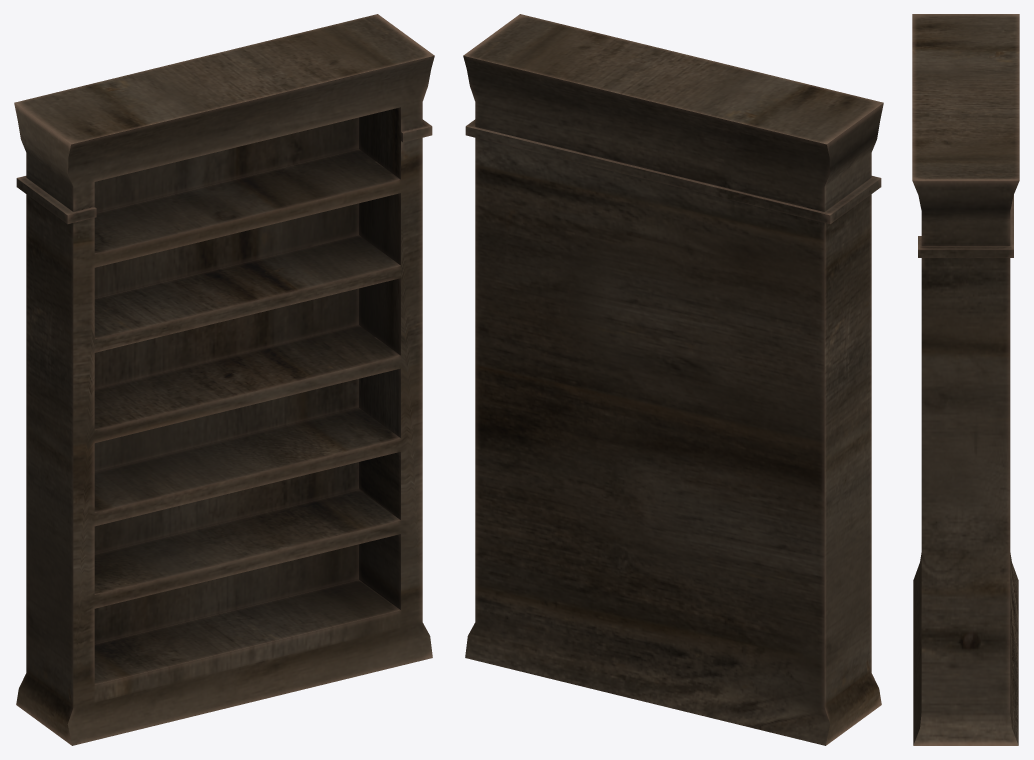
Rendered from BookshelfNobook.fbx.
The picture shows the model from 3 angles, left to right: view 1: azimuth 30°, elevation 25°; view 2: azimuth 150°, elevation 25°; view 3: azimuth 270°, elevation 25°; orthographic projection. The views are drawn at different scales.
Visible parts, largest first — view 1: bookshelf; view 2: bookshelf; view 3: bookshelf.
Part boxes in pixels (<box>): bookshelf: <box>14,14,434,745</box>; bookshelf: <box>463,14,883,745</box>; bookshelf: <box>912,14,1019,745</box>.
Bounding box in the file's own units: 167 × 264 × 45.28.
